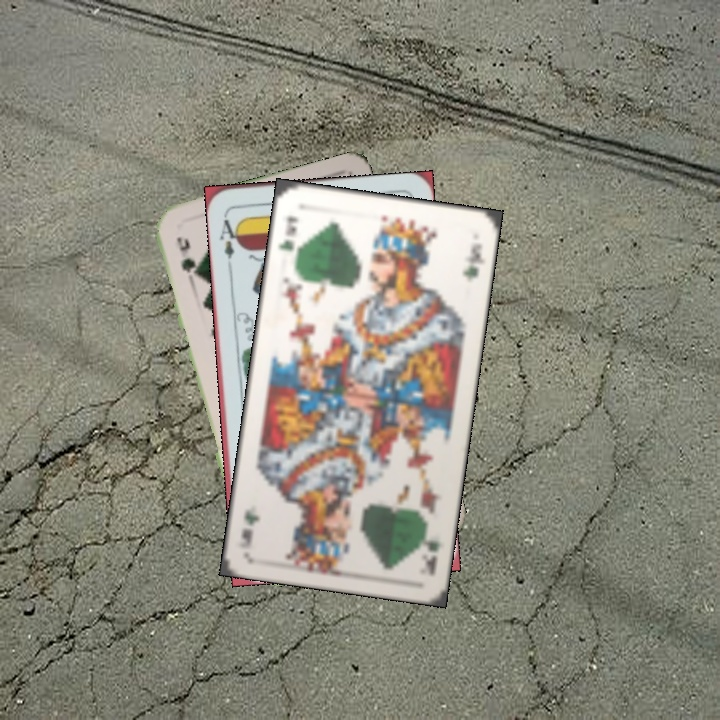EA: (216, 210, 243, 261)
G9: (172, 233, 199, 283)
GK: (274, 212, 301, 254), (417, 539, 444, 578)
